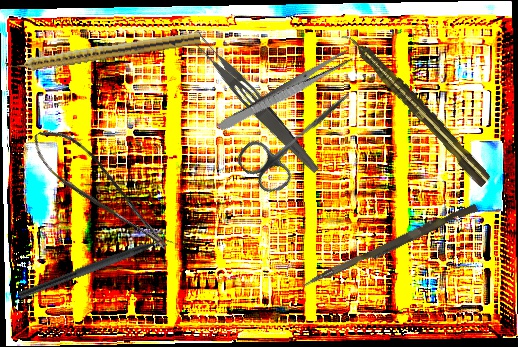Chopper: (16, 228, 184, 311)
Dressing Forceps: (184, 26, 327, 177), (217, 47, 354, 136)
Handpiece: (339, 26, 494, 189), (3, 27, 202, 76)
Iris Scissors: (232, 71, 367, 200)
Micro Scissor: (24, 114, 173, 272)
Pusher: (301, 199, 479, 294)
